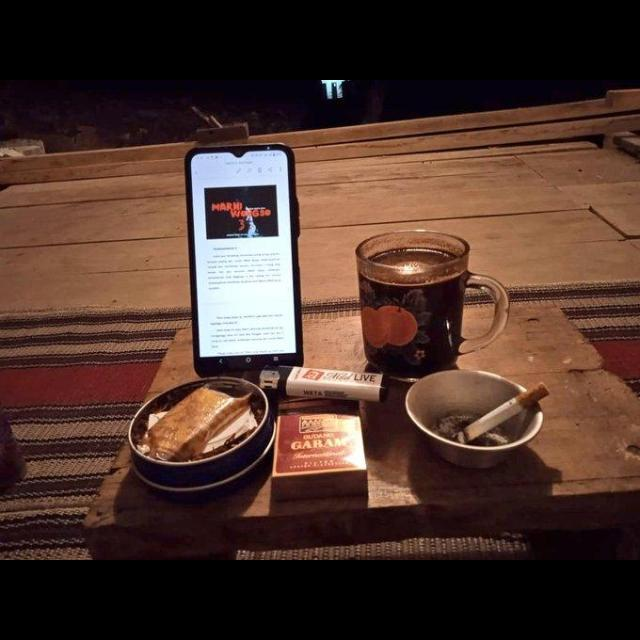rokok: (454, 382, 550, 442)
